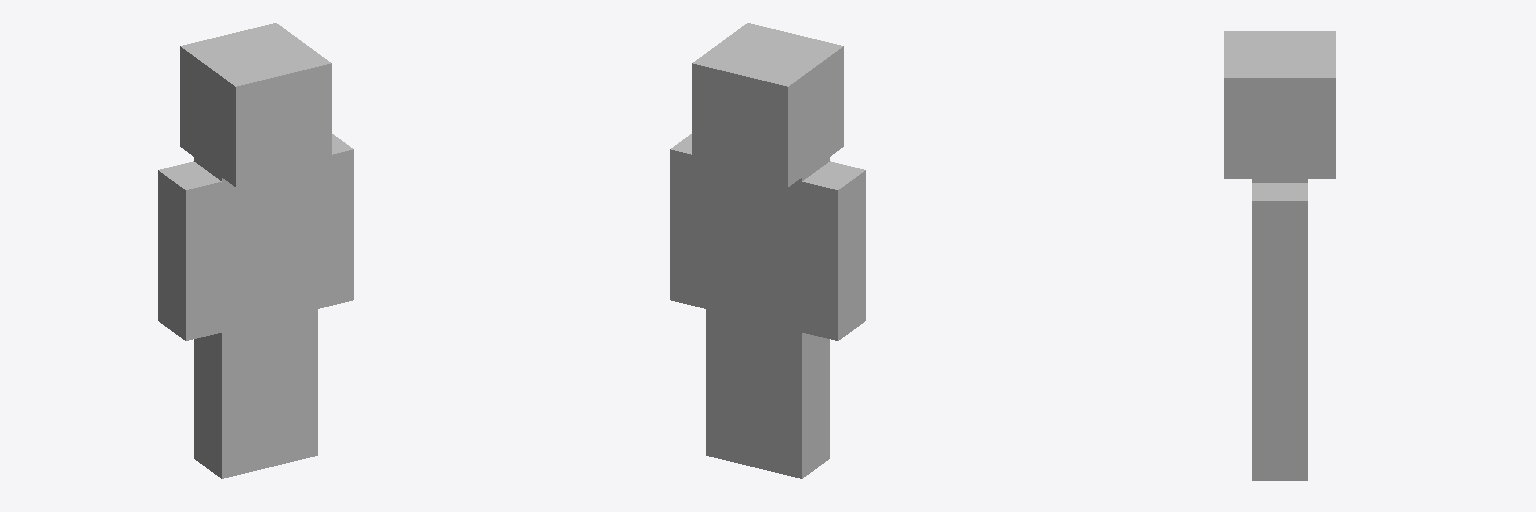
File: steve.obj
The picture shows the model from 3 angles: view 1: azimuth 30°, elevation 25°; view 2: azimuth 150°, elevation 25°; view 3: azimuth 270°, elevation 25°; orthographic projection.
Parts seen in each view (by area): view 1: Polygon_1, Polygon_5, Polygon_2, Polygon, Polygon_4, Polygon_3; view 2: Polygon_1, Polygon_5, Polygon_2, Polygon, Polygon_4, Polygon_3; view 3: Polygon_1, Polygon_3, Polygon_4.
Boxes of the visible parts, box(x1,y1,x2,y2) form: Polygon_1: box(180, 23, 331, 186); Polygon_5: box(194, 157, 317, 327); Polygon_2: box(194, 317, 269, 478); Polygon: box(158, 161, 221, 340); Polygon_4: box(270, 305, 317, 466); Polygon_3: box(318, 134, 353, 308); Polygon_1: box(692, 23, 843, 186); Polygon_5: box(706, 157, 829, 327); Polygon_2: box(754, 317, 829, 478); Polygon: box(802, 161, 865, 340); Polygon_4: box(706, 305, 753, 466); Polygon_3: box(670, 134, 705, 308); Polygon_1: box(1224, 31, 1335, 178); Polygon_3: box(1252, 183, 1307, 351); Polygon_4: box(1252, 352, 1307, 480).
Size of the model in its own units: 1.74 by 3.98 by 0.9942.